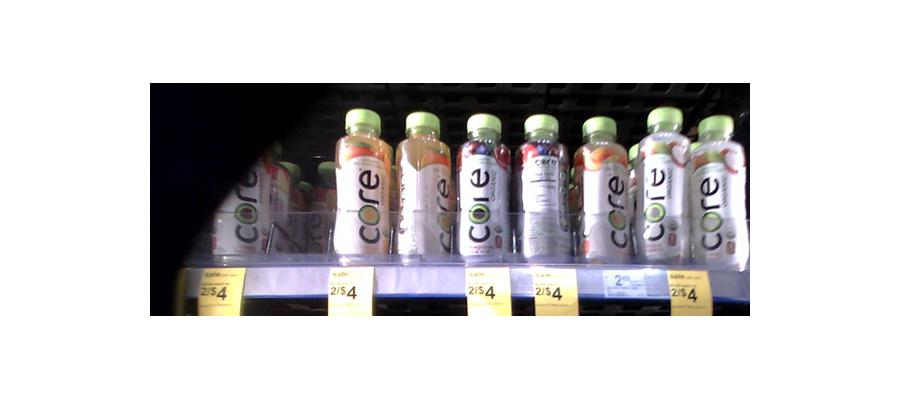bottle: (631, 107, 694, 270), (328, 110, 391, 266), (392, 116, 454, 266), (456, 112, 512, 275), (574, 117, 634, 268), (517, 116, 573, 270), (692, 114, 746, 272), (211, 140, 278, 260)
